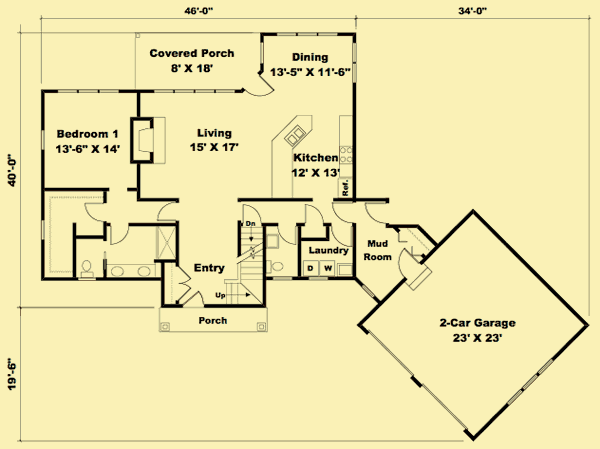door: (393, 245, 422, 279), (169, 263, 193, 301), (241, 72, 277, 97), (274, 219, 300, 249), (329, 222, 356, 249), (363, 199, 391, 224), (105, 220, 132, 245), (330, 199, 358, 223), (155, 200, 183, 223), (302, 201, 327, 225), (82, 200, 108, 223), (239, 201, 260, 225), (179, 291, 205, 308)
large sink: (264, 257, 286, 279), (77, 258, 96, 279)
small sink: (105, 263, 156, 278)
stairs: (217, 226, 266, 306)
windows: (504, 356, 558, 407), (149, 85, 237, 98), (274, 27, 338, 39), (55, 86, 121, 96), (346, 40, 359, 86), (355, 279, 377, 303), (38, 216, 49, 244), (38, 126, 49, 153), (256, 39, 267, 66), (303, 272, 330, 283)
